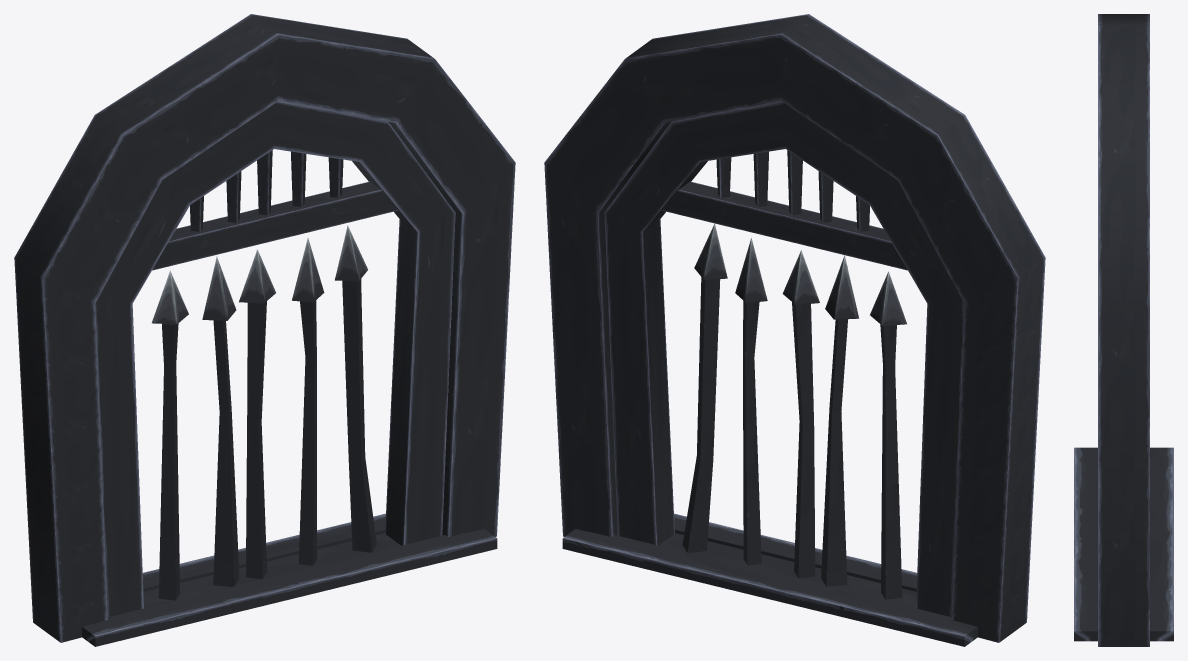
Rendered from MOD_Gateway_Door_01_med_01.fbx.
3 views of the same model, side by side, from view 1: azimuth 30°, elevation 25°; view 2: azimuth 150°, elevation 25°; view 3: azimuth 270°, elevation 25° (orthographic). The views are drawn at different scales.
Visible parts, largest first — view 1: MOD_Gateway_Door_01_med_01, MOD_Gateway_Door_01_med_01_frame, MOD_Gateway_Door_01_med_01_door; view 2: MOD_Gateway_Door_01_med_01, MOD_Gateway_Door_01_med_01_frame, MOD_Gateway_Door_01_med_01_door; view 3: MOD_Gateway_Door_01_med_01.
Part boxes in pixels (<box>): MOD_Gateway_Door_01_med_01: <box>14,14,515,646</box>; MOD_Gateway_Door_01_med_01_frame: <box>95,101,455,616</box>; MOD_Gateway_Door_01_med_01_door: <box>152,225,376,600</box>; MOD_Gateway_Door_01_med_01: <box>544,14,1045,646</box>; MOD_Gateway_Door_01_med_01_frame: <box>604,101,964,616</box>; MOD_Gateway_Door_01_med_01_door: <box>682,223,906,599</box>; MOD_Gateway_Door_01_med_01: <box>1074,14,1173,646</box>.
Size of the model in its own units: 353 by 396 by 68.79.
